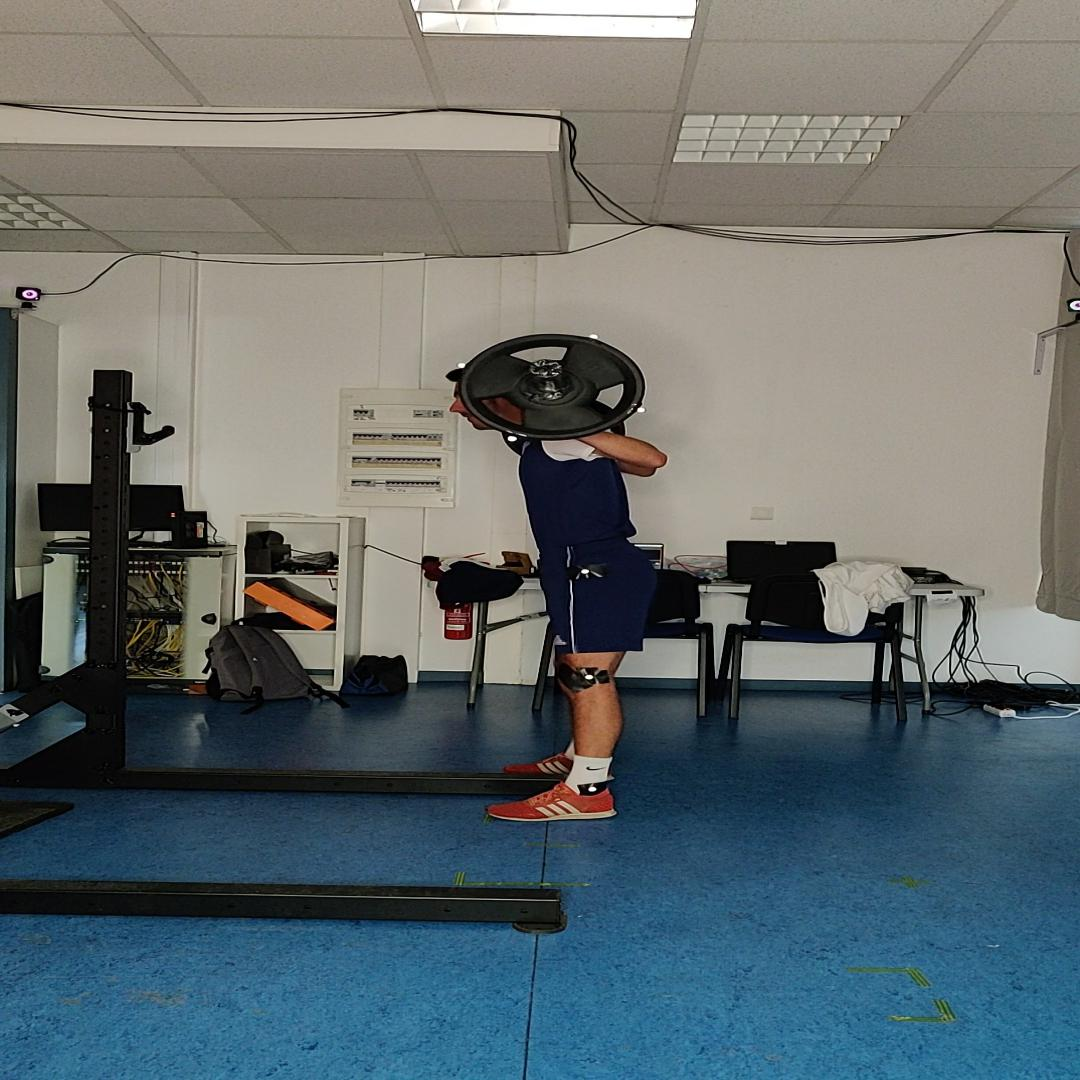Bar: (530, 359, 562, 378)
Barbell: (458, 333, 645, 441)
